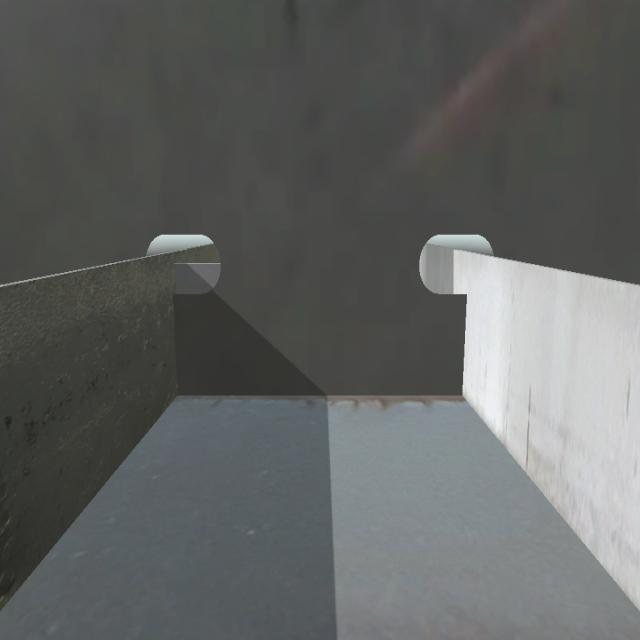fillet_yong_jeop_jang: (171, 384, 464, 404)
longi_yong_jeop_jang: (164, 263, 189, 394), (456, 287, 474, 402)
plate_behind: (170, 261, 221, 296)
